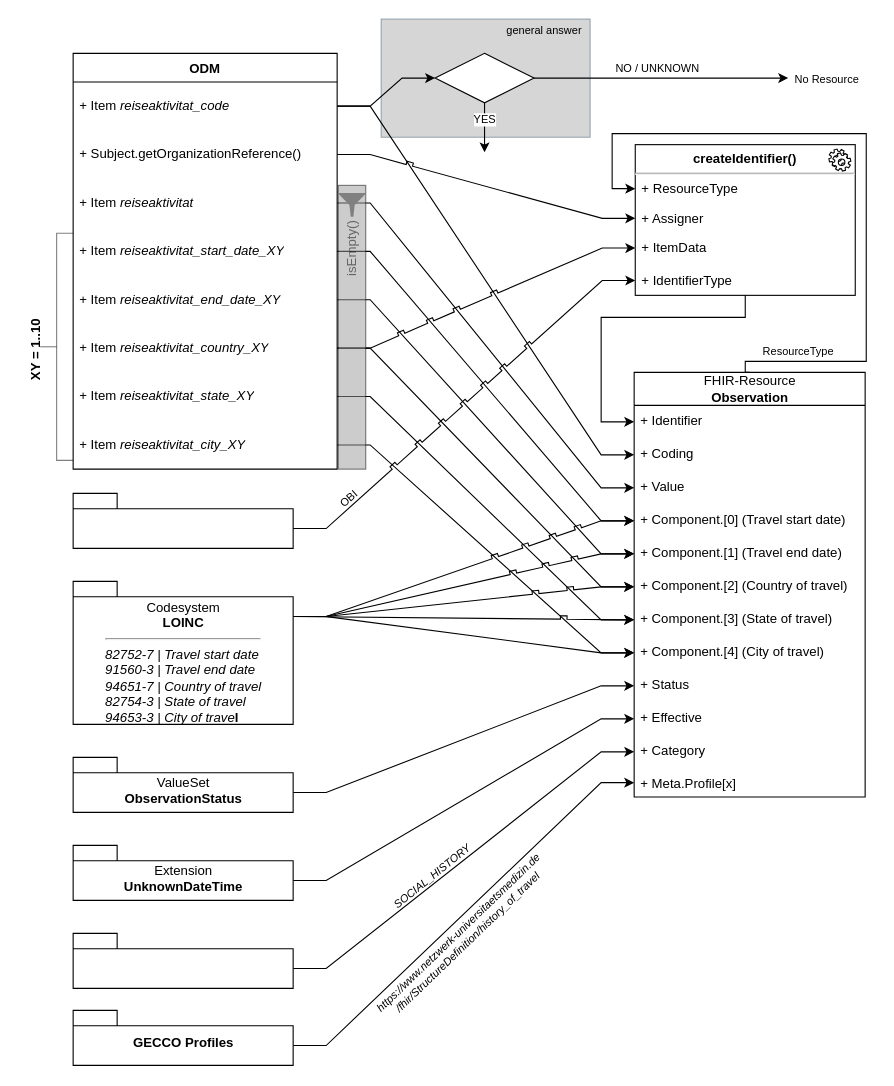
The diagram is 894 pixels wide and 1086 high, and some of its shapes have lost their labels. Here are the shapes that lost their labels. From the top down, the centre of each, then its label:
At point (484, 77): "getCode()".
At point (182, 520): "ValueSet IdentifierTypeCodes".
At point (182, 960): "ValueSet ObservationCategory".
